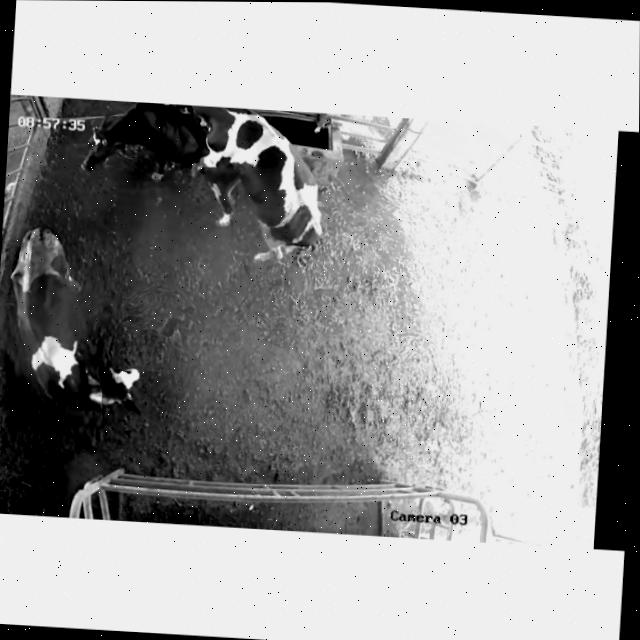ride: (147, 103, 336, 275)
